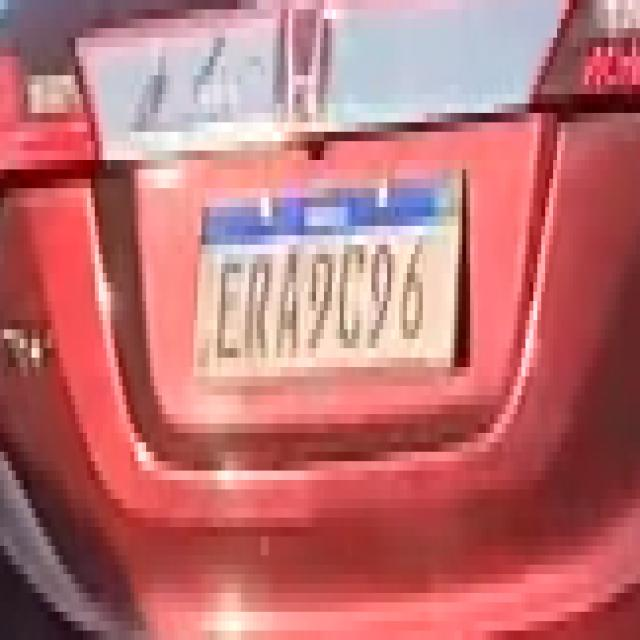Placa_mercosul_carro: (191, 172, 464, 385)
